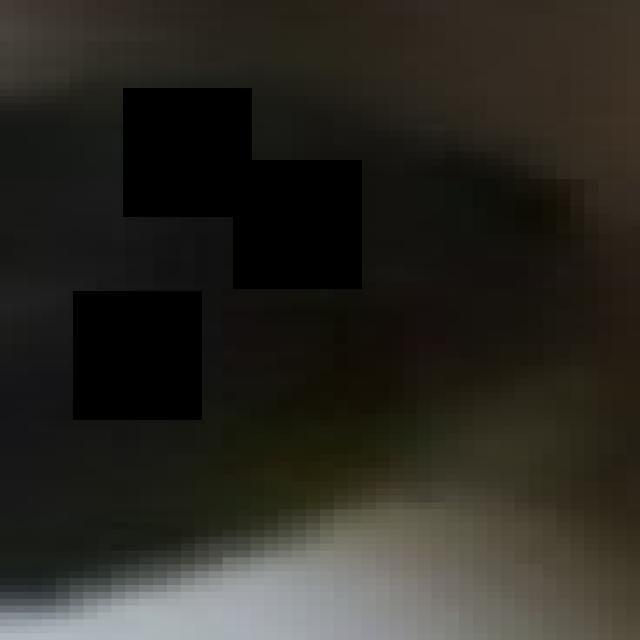fish: (14, 7, 640, 640)
